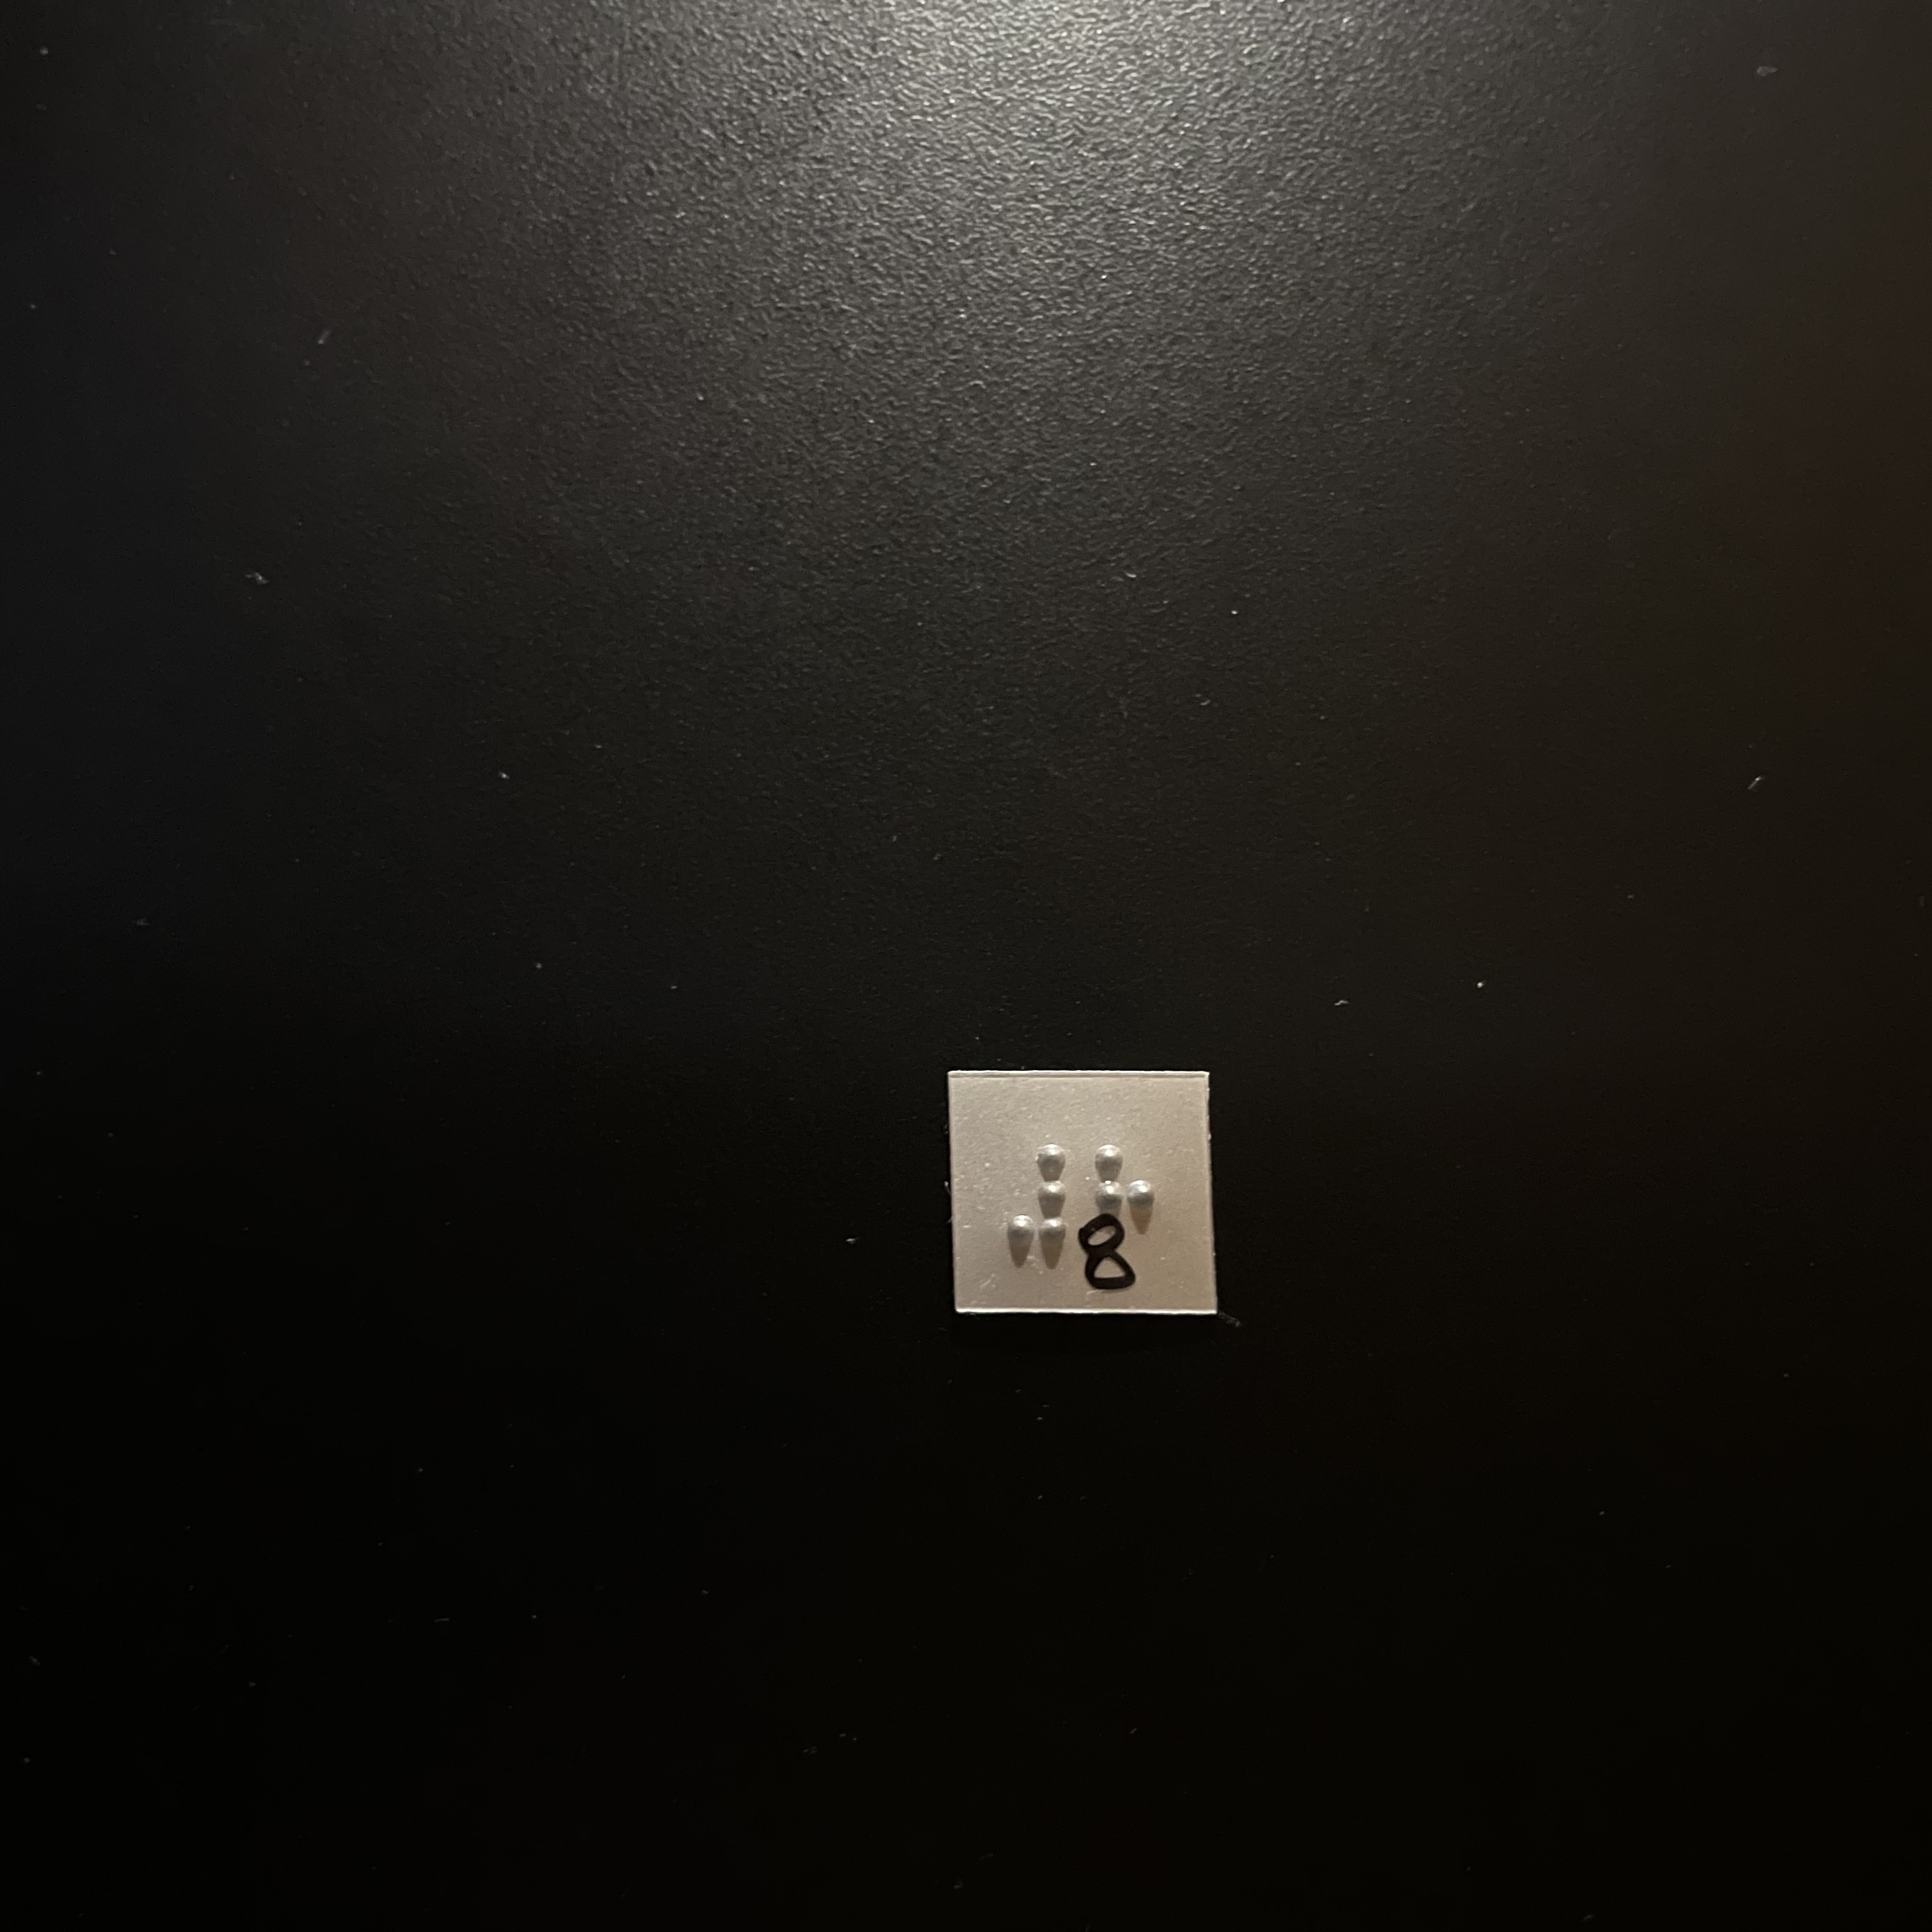#: (1003, 1138, 1082, 1271)
h: (1082, 1138, 1168, 1275)
